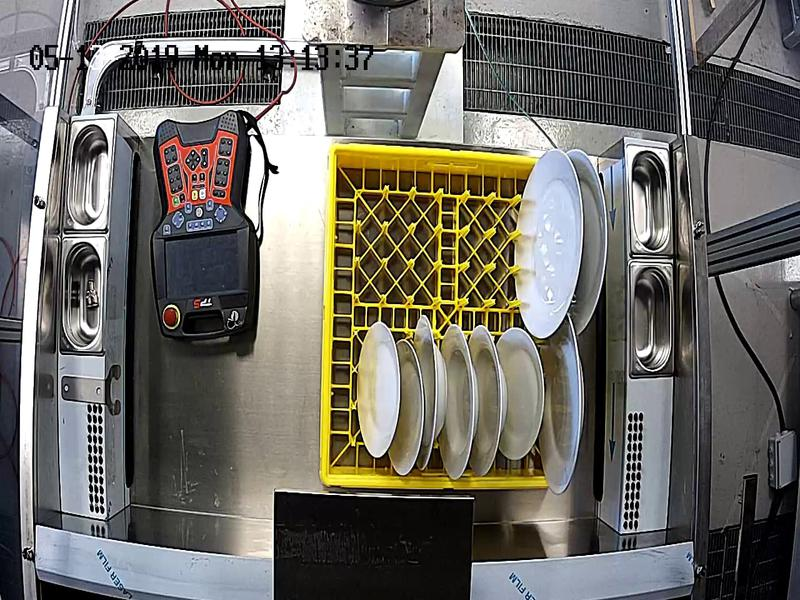Dish: (516, 149, 580, 340), (544, 320, 588, 498), (356, 323, 400, 459), (581, 145, 609, 346), (507, 323, 546, 460), (480, 324, 510, 475), (451, 323, 479, 481), (423, 317, 448, 470), (398, 342, 423, 478)
